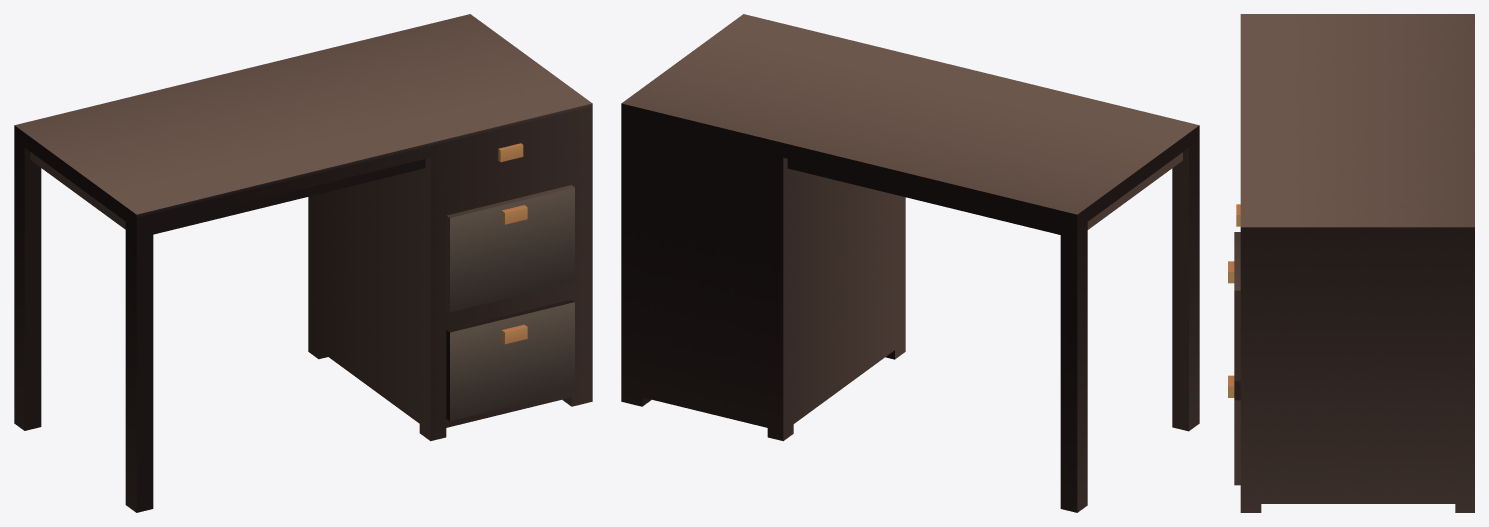
Rendered from desk.fbx.
3 renders of one model, left to right at view 1: azimuth 30°, elevation 25°; view 2: azimuth 150°, elevation 25°; view 3: azimuth 270°, elevation 25°, orthographic. The views are drawn at different scales.
Visible parts, largest first — view 1: Box001; view 2: Box001; view 3: Box001.
Part boxes in pixels (x1=…): Box001: x1=14, y1=14, x2=592, y2=512; Box001: x1=621, y1=14, x2=1199, y2=512; Box001: x1=1234, y1=14, x2=1474, y2=512.
Size of the model in its own units: 120 by 75 by 58.73.
